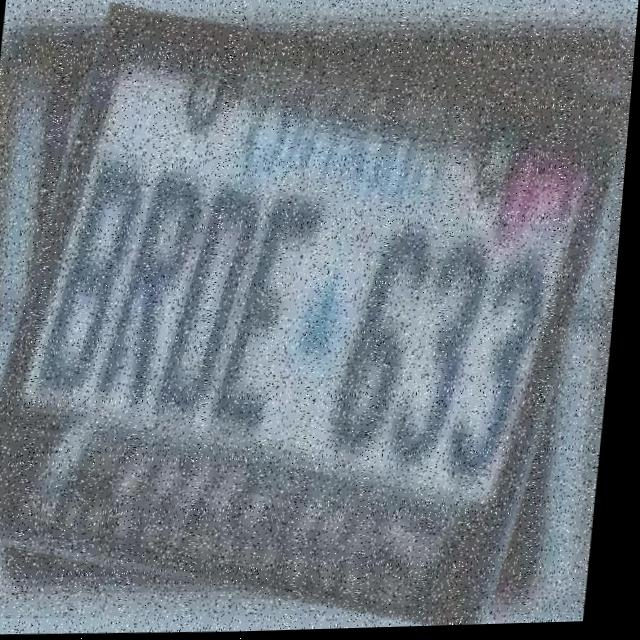LicensePlate: (0, 12, 624, 629)
